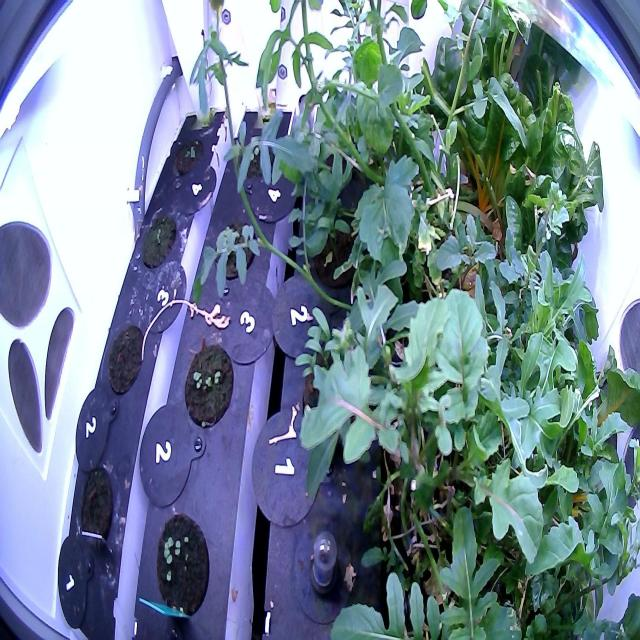germination: (150, 504, 212, 625), (181, 334, 236, 434), (137, 205, 181, 275), (171, 123, 207, 185)
pod: (74, 459, 117, 554), (103, 318, 148, 401)
